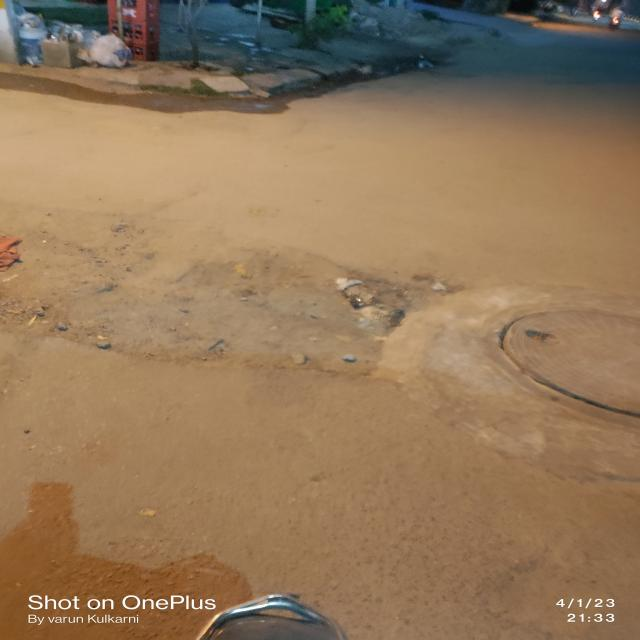manhole: (451, 275, 640, 496)
potholes: (198, 231, 428, 345)
